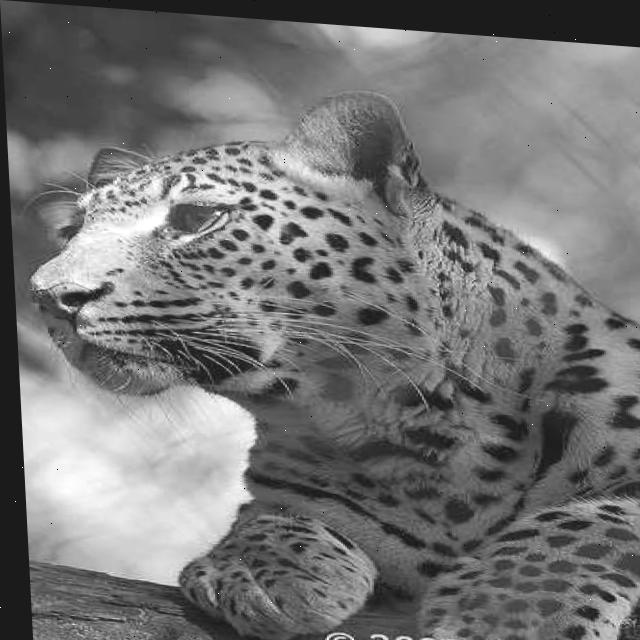Leopard: (10, 46, 640, 640)
